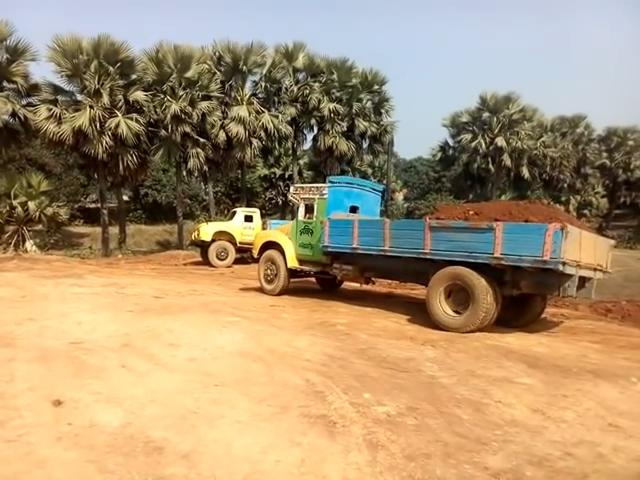truck: (270, 168, 617, 348), (187, 191, 275, 267)
